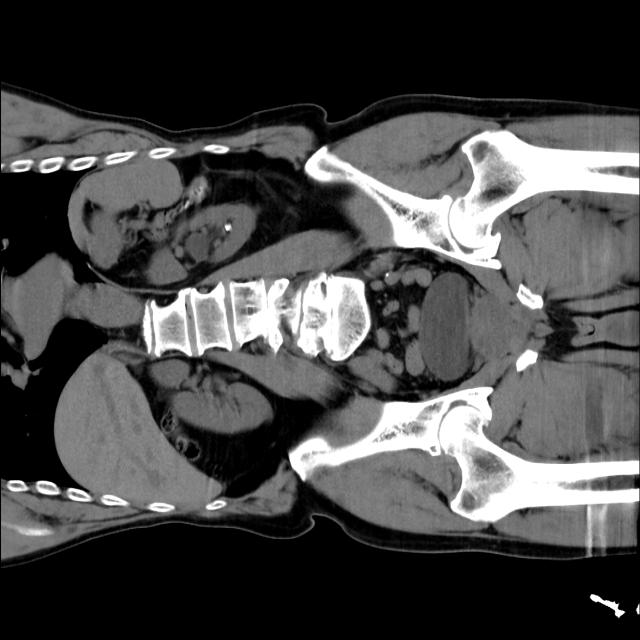kidneystone: (224, 219, 232, 232)
